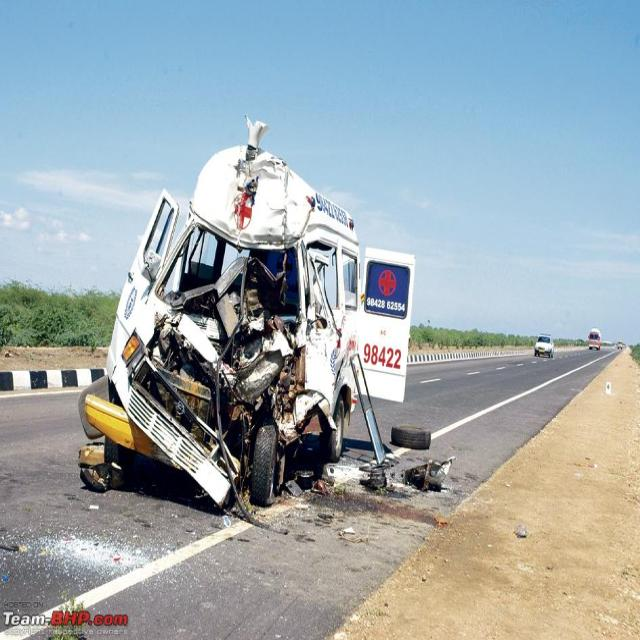accident: (79, 119, 415, 516)
car: (534, 333, 554, 356)
truck: (588, 329, 601, 349)
